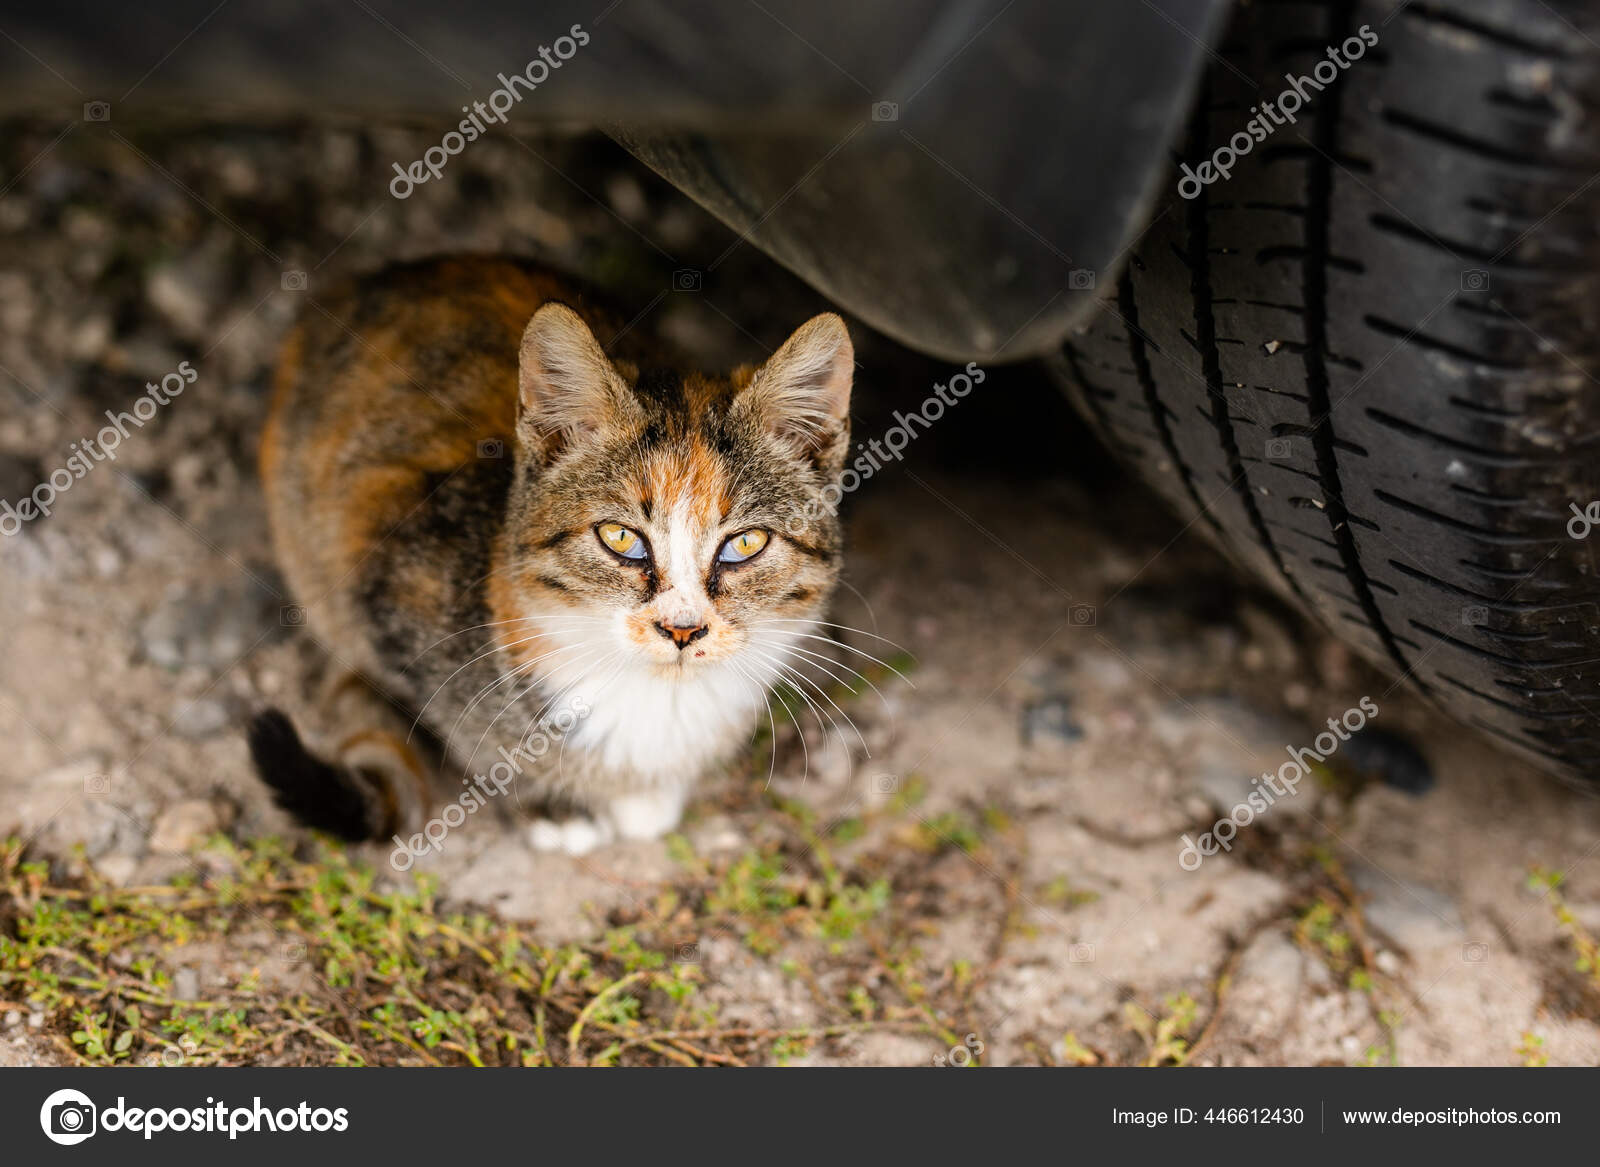cat: (166, 308, 952, 879)
